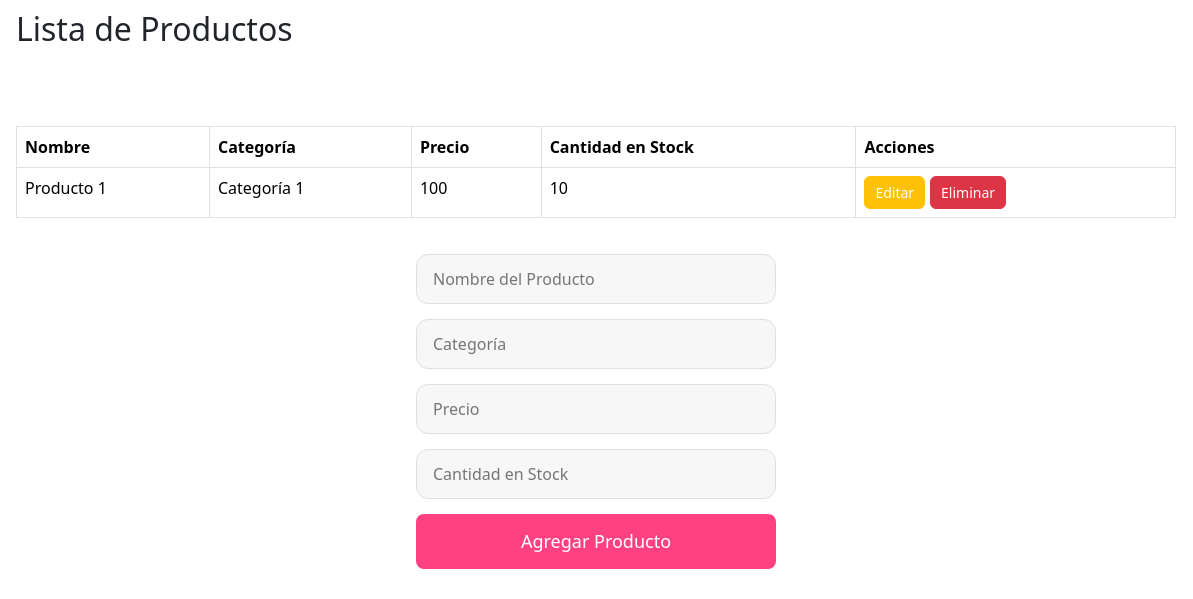
Test case: ProductList Component › should display success message when product is deleted
The width and height of the screenshot is (1193, 599).
Expected: the text "Producto 1" is shown, [16,168,209,218]
Click the button "Eliminar".
click(968, 193)  # box [930,176,1006,209]
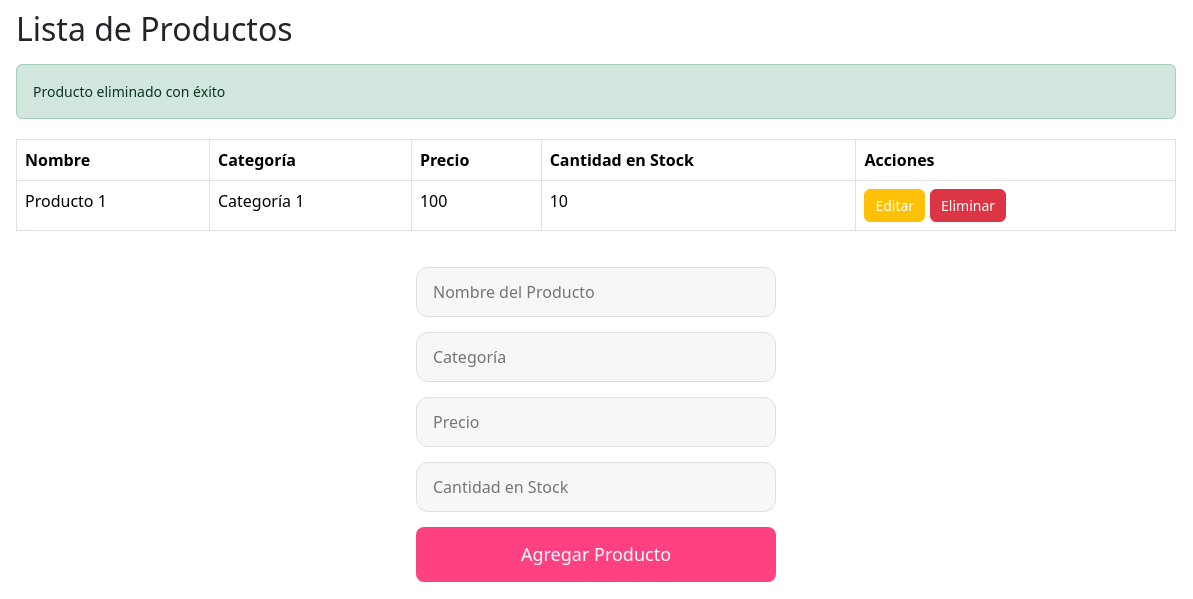
Expected: the text "Producto eliminado con éxito" is shown, [16,64,1176,119]
